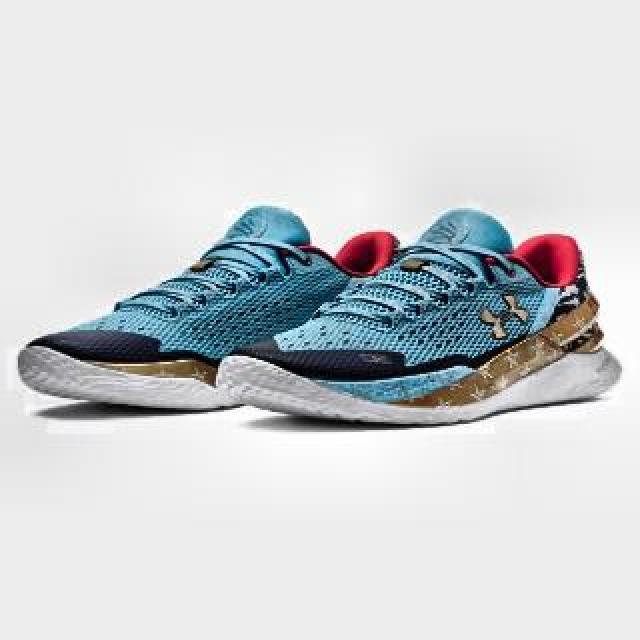shoe: (216, 208, 622, 428), (16, 206, 420, 410)
